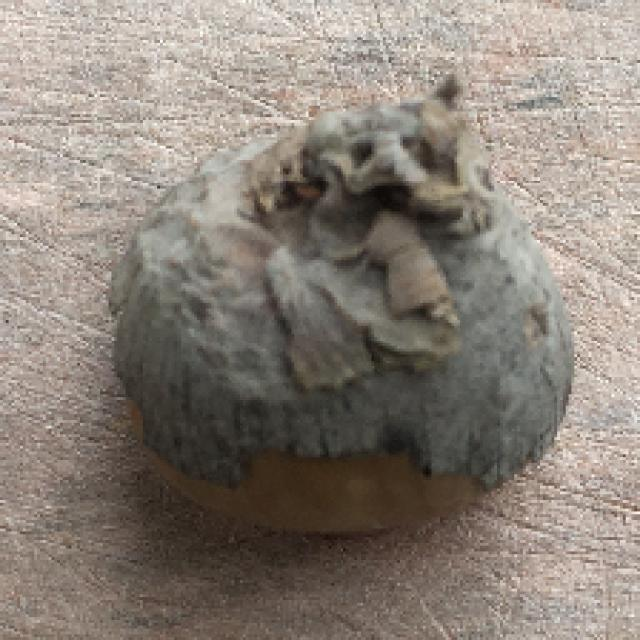damagedHazelnut: (112, 95, 581, 536)
